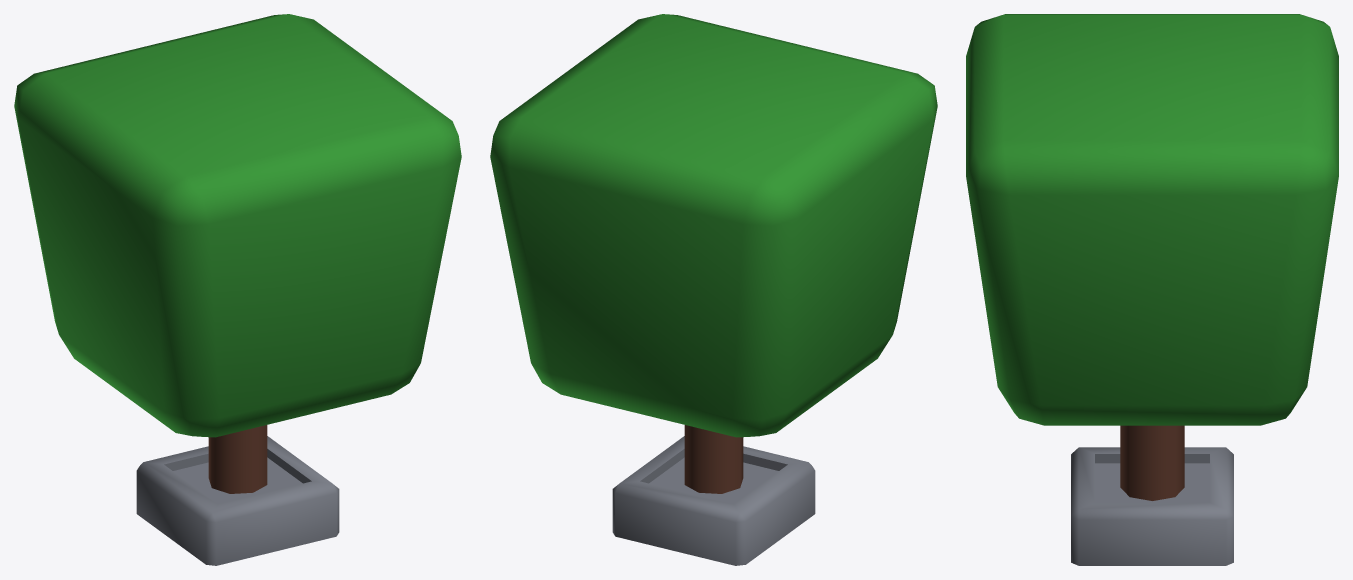
Rendered from Bush.fbx.
3 renders of one model, left to right at view 1: azimuth 30°, elevation 25°; view 2: azimuth 150°, elevation 25°; view 3: azimuth 270°, elevation 25°, orthographic. The views are drawn at different scales.
Parts seen in each view (by area): view 1: Bush; view 2: Bush; view 3: Bush.
Part boxes in pixels (x1=…): Bush: x1=14, y1=14, x2=461, y2=565; Bush: x1=490, y1=14, x2=937, y2=565; Bush: x1=966, y1=14, x2=1338, y2=565.
Bounding box in the file's own units: 165 × 221 × 165.
